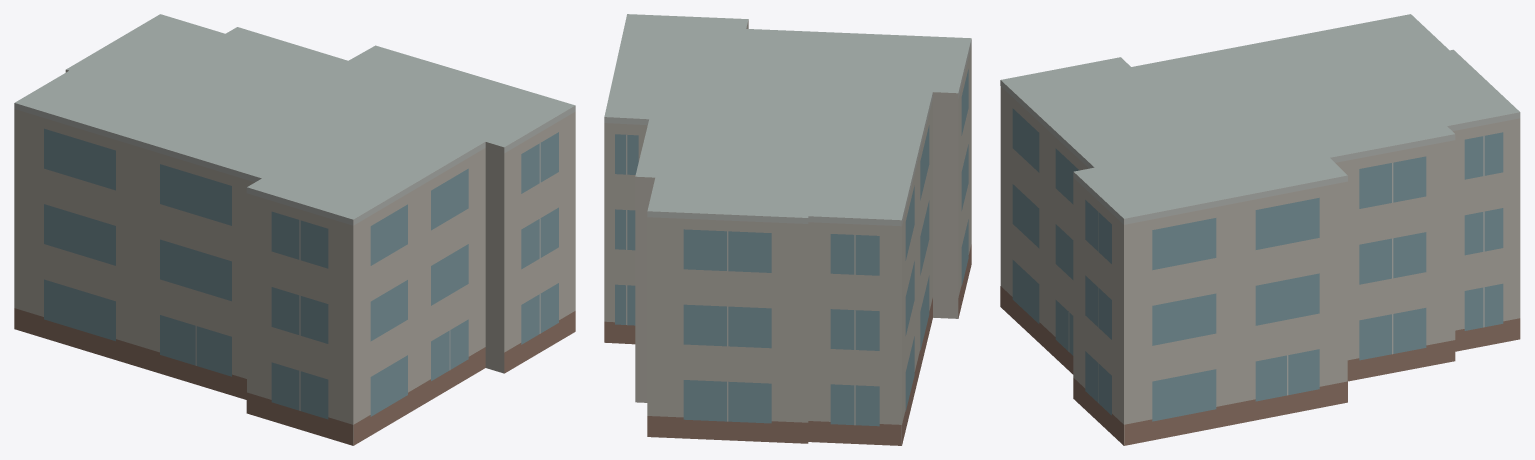
The model's file is survey-upis-33003981.glb.
The picture shows the model from 3 angles, left to right: view 1: azimuth 30°, elevation 25°; view 2: azimuth 150°, elevation 25°; view 3: azimuth 270°, elevation 25°; orthographic projection.
Parts seen in each view (by area): view 1: survey-upis-33003981.tmp; view 2: survey-upis-33003981.tmp; view 3: survey-upis-33003981.tmp.
Part boxes in pixels (box(x1,y1,x2,y2)): survey-upis-33003981.tmp: box(14, 14, 575, 445); survey-upis-33003981.tmp: box(604, 14, 971, 445); survey-upis-33003981.tmp: box(1000, 14, 1520, 445).
Bounding box in the file's own units: 17.72 × 9.15 × 19.
